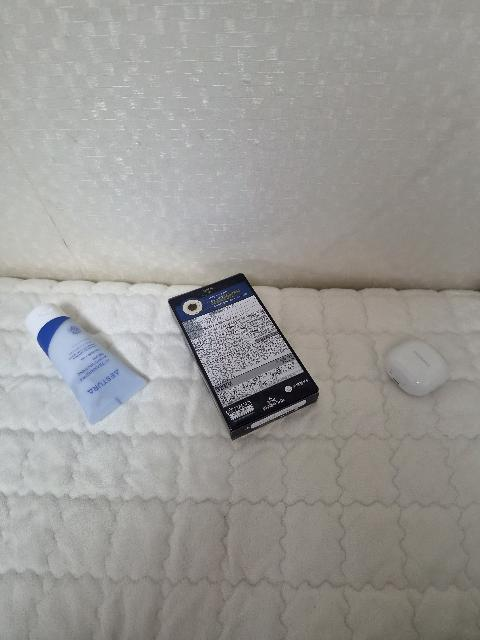earphone_case: (385, 339, 450, 396)
handcream: (25, 303, 147, 425)
pepero: (168, 273, 319, 440)
